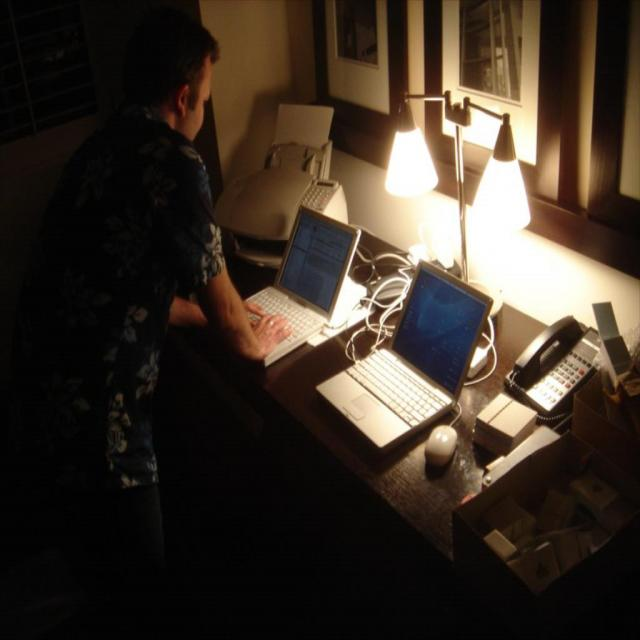desk: (240, 316, 638, 602)
laptop: (312, 260, 493, 458), (245, 205, 362, 365)
mouse: (424, 425, 458, 470)
person: (6, 9, 292, 630)
